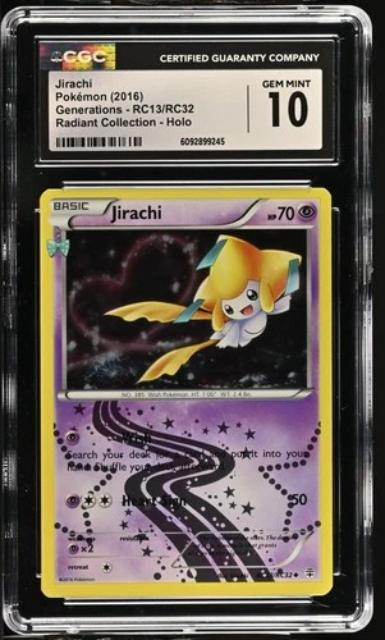Card: (38, 177, 337, 600)
Name: (106, 198, 168, 224)
